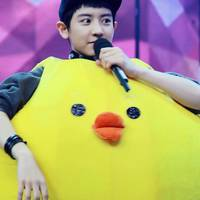face: (69, 4, 113, 56)
